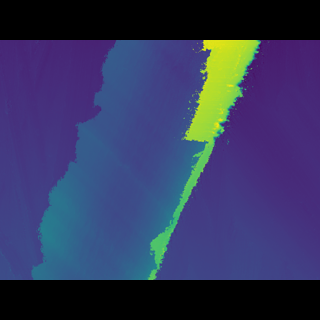Loch: (27, 69, 261, 249)
